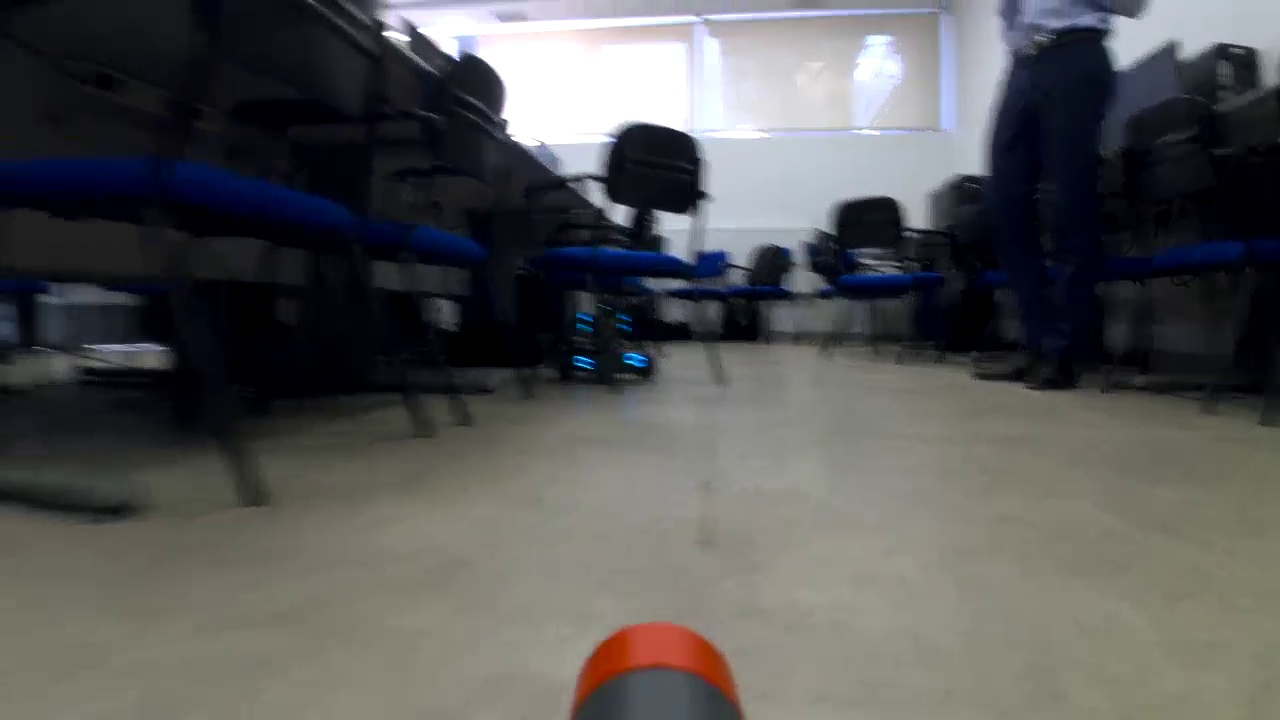robot: (559, 302, 657, 389)
